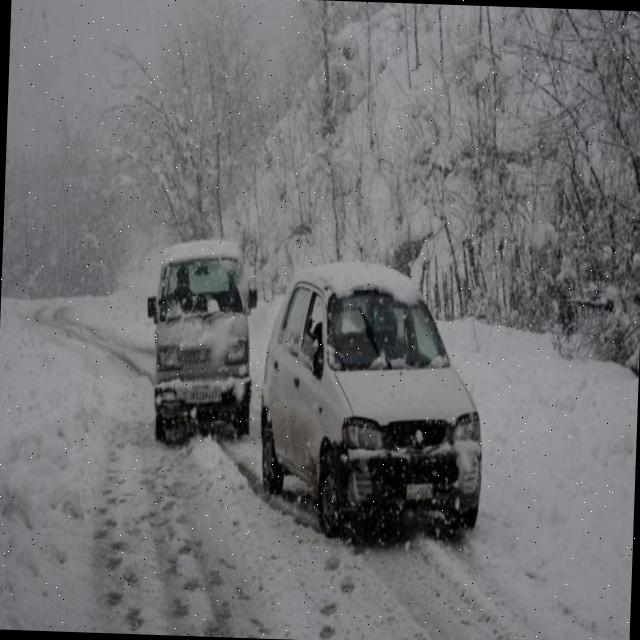car: (254, 263, 492, 543), (150, 238, 256, 443)
